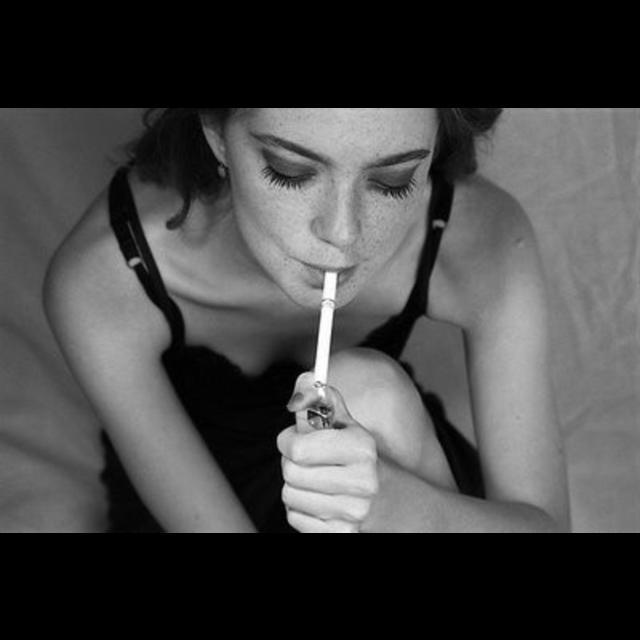rokok: (310, 264, 342, 390)
